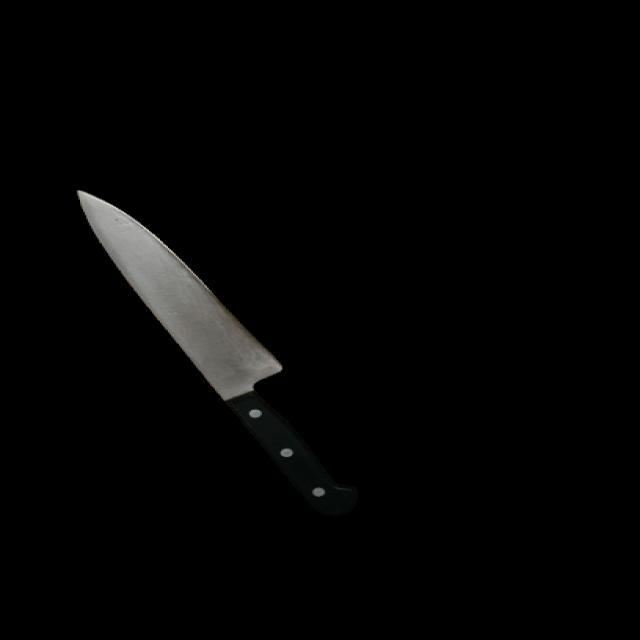knife: (67, 188, 370, 526)
